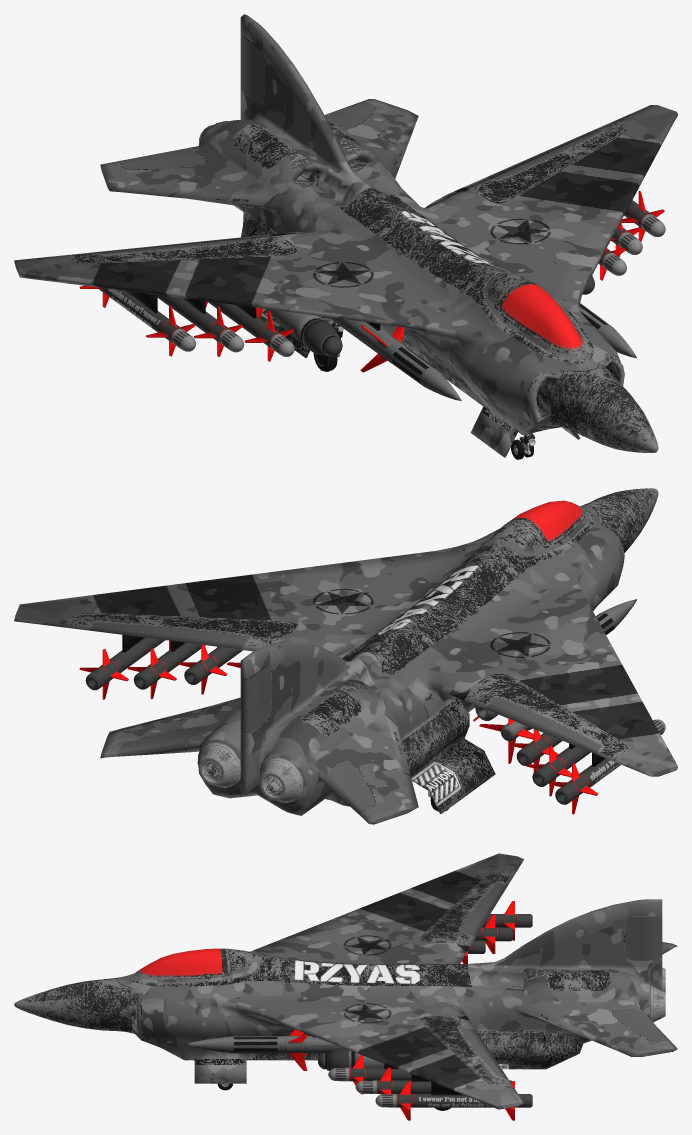
Rendered from jet_fighter.glb.
3 views of the same model, one above another, from view 1: azimuth 30°, elevation 25°; view 2: azimuth 150°, elevation 25°; view 3: azimuth 270°, elevation 25° (orthographic). The views are drawn at different scales.
Parts seen in each view (by area): view 1: VHCL_A_GarudaJetBody, VHCL_A_GarudaJetMissile, VHCL_A_GarudaJetLandGear; view 2: VHCL_A_GarudaJetBody, VHCL_A_GarudaJetMissile; view 3: VHCL_A_GarudaJetBody, VHCL_A_GarudaJetMissile.
Part boxes in pixels (box(x1,y1,x2,y2)): VHCL_A_GarudaJetBody: box(14, 14, 677, 457); VHCL_A_GarudaJetMissile: box(79, 191, 665, 401); VHCL_A_GarudaJetLandGear: box(313, 324, 535, 459); VHCL_A_GarudaJetBody: box(14, 488, 677, 824); VHCL_A_GarudaJetMissile: box(79, 599, 665, 814); VHCL_A_GarudaJetBody: box(14, 853, 677, 1109); VHCL_A_GarudaJetMissile: box(183, 901, 532, 1120).
Size of the model in its own units: 20.28 by 7.07 by 22.56.
Materials: 3 (3 with a texture image).
